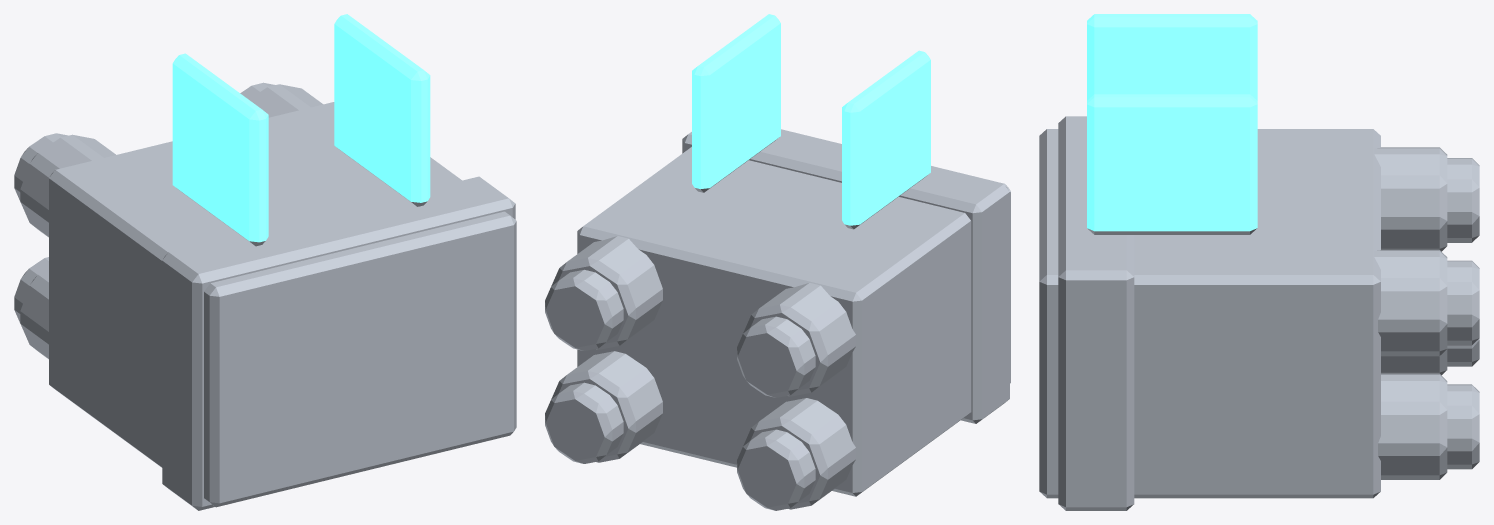
The model's file is Ship_Engine_Upgrade02.fbx.
3 views of the same model, side by side, from view 1: azimuth 30°, elevation 25°; view 2: azimuth 150°, elevation 25°; view 3: azimuth 270°, elevation 25° (orthographic). The views are drawn at different scales.
Visible parts, largest first — view 1: Ship_Engine_Upgrade02; view 2: Ship_Engine_Upgrade02; view 3: Ship_Engine_Upgrade02.
Part boxes in pixels (x1,y1,x2,y2): Ship_Engine_Upgrade02: (14, 14, 516, 510); Ship_Engine_Upgrade02: (545, 14, 1010, 510); Ship_Engine_Upgrade02: (1039, 14, 1479, 510).
Bounding box in the file's own units: 1 × 1.1 × 1.16.
